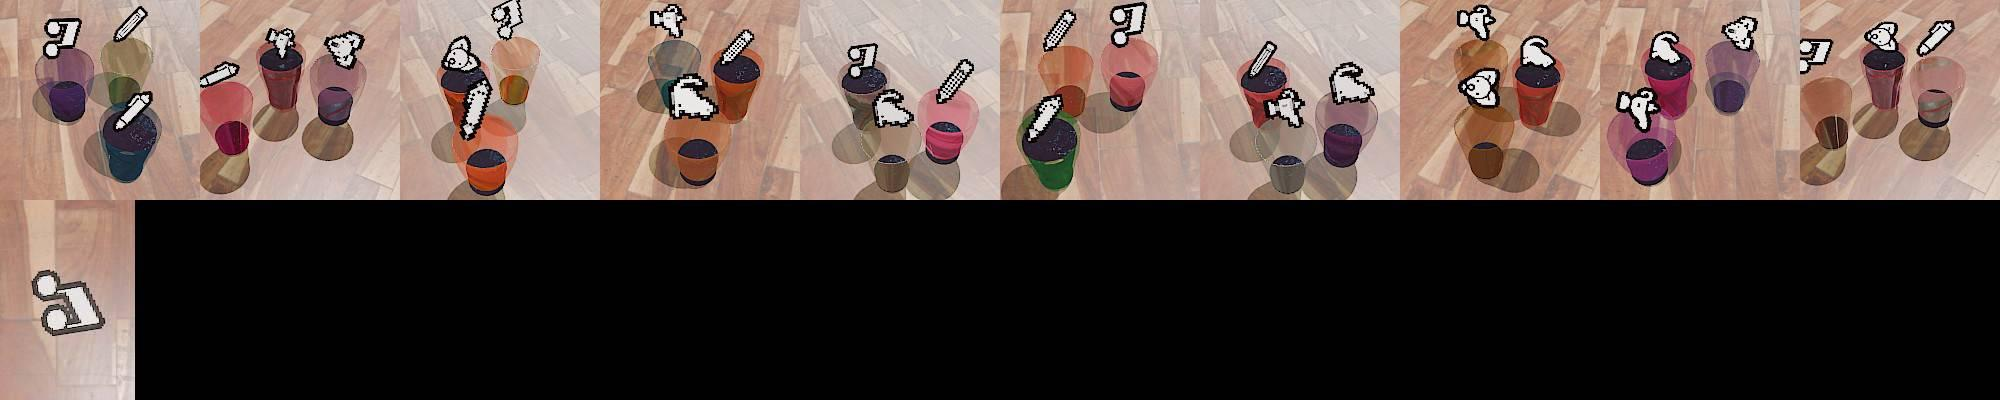icon: (29, 268, 108, 336), (666, 73, 718, 121), (1327, 60, 1374, 106), (460, 75, 492, 141), (1024, 92, 1065, 143), (1616, 87, 1658, 132), (935, 57, 974, 106), (1265, 85, 1307, 127), (1458, 68, 1500, 110), (1108, 1, 1148, 46), (42, 18, 83, 60), (872, 88, 916, 127), (114, 90, 153, 131), (324, 29, 365, 68), (1518, 34, 1559, 73), (1916, 19, 1955, 57), (1042, 9, 1077, 52), (1459, 4, 1497, 42), (717, 28, 755, 66), (441, 34, 480, 71), (1648, 31, 1685, 68), (1721, 15, 1758, 52), (649, 3, 687, 38), (112, 5, 148, 43), (491, 0, 524, 41), (1245, 41, 1278, 82), (1798, 37, 1833, 74), (199, 61, 240, 89), (1864, 20, 1899, 51), (265, 27, 297, 60), (847, 42, 879, 71)
